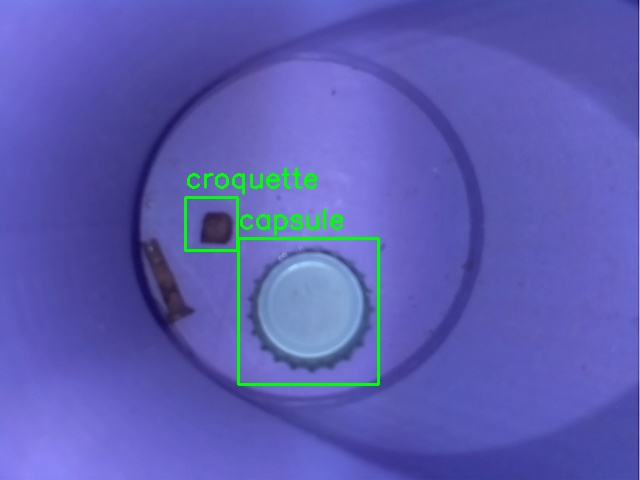capsule: (238, 238, 378, 384)
croquette: (185, 197, 237, 250)
